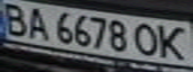6: (48, 9, 75, 45), (69, 12, 93, 47)
7: (87, 15, 109, 51)
8: (106, 17, 133, 54)
A: (21, 4, 51, 40)
B: (0, 1, 30, 37)
K: (154, 23, 193, 62)
O: (130, 20, 163, 57)
